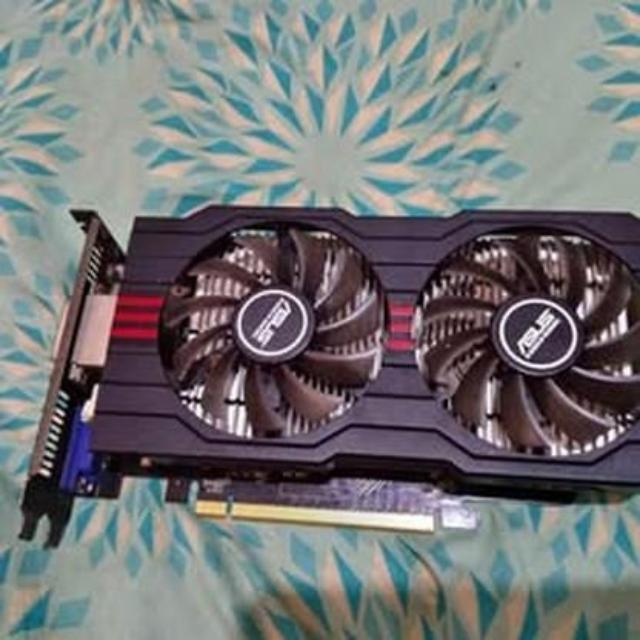GPU: (28, 203, 640, 525)
